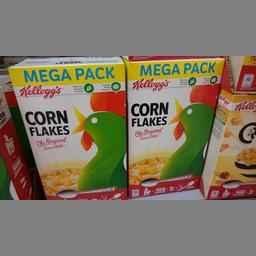cereal: (7, 56, 127, 199), (126, 57, 223, 194)
